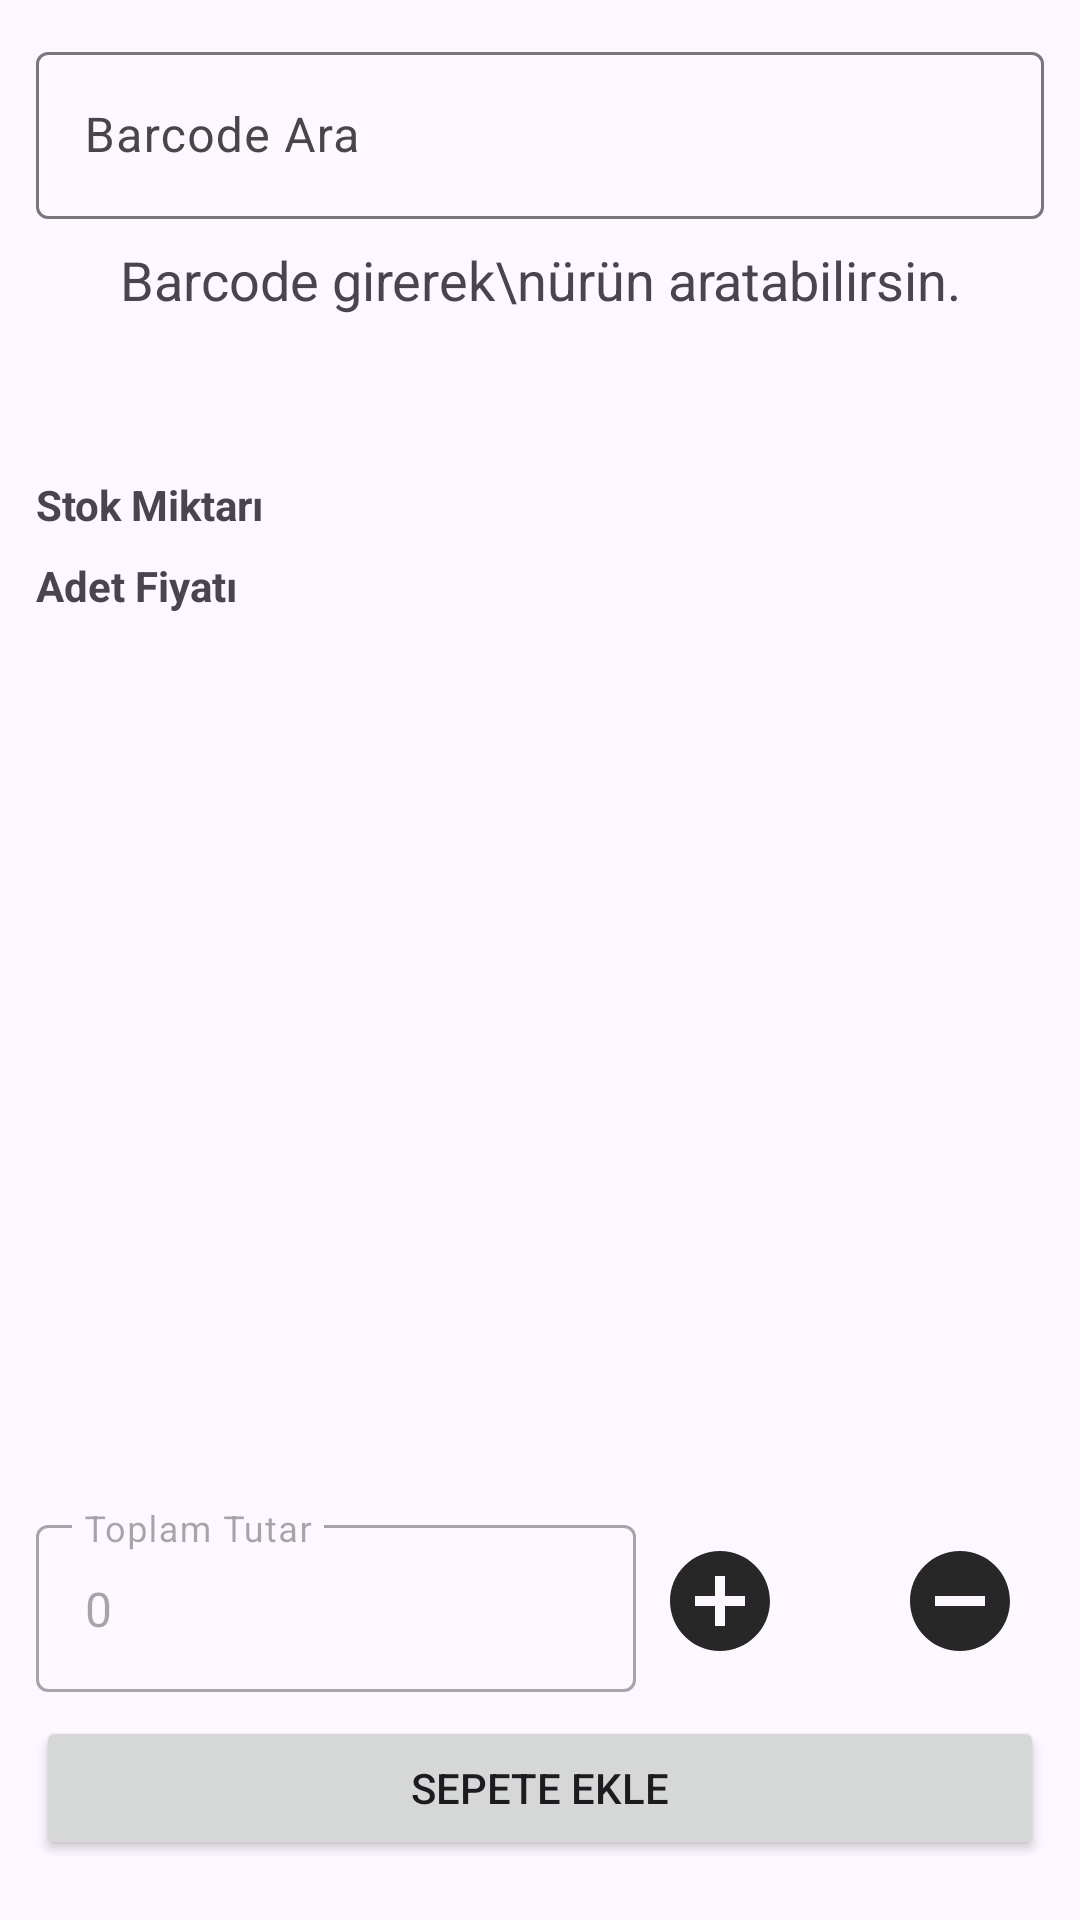

Named icons in this screenshot (1080 × 1920) and their centers, [x,y]:
circle add: [720,1601]
circle remove: [960,1601]
